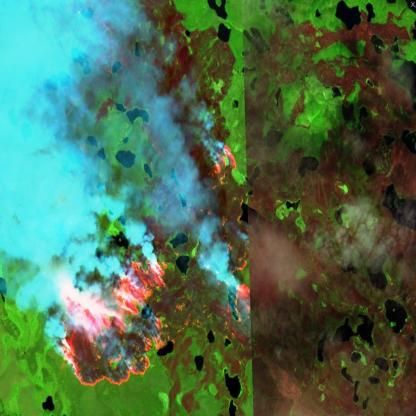fire: (52, 256, 174, 388), (216, 254, 253, 355), (201, 132, 244, 197)
